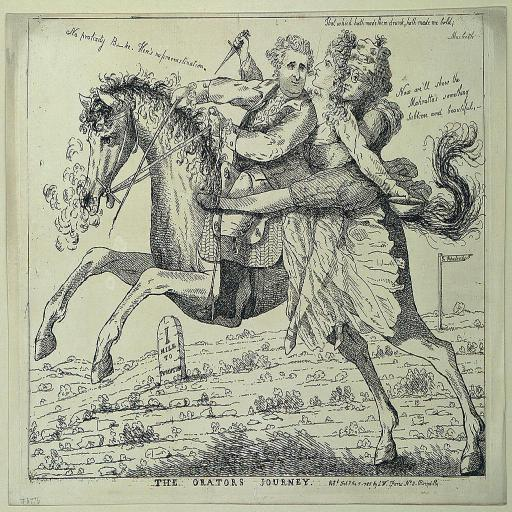horse: (34, 56, 486, 474)
